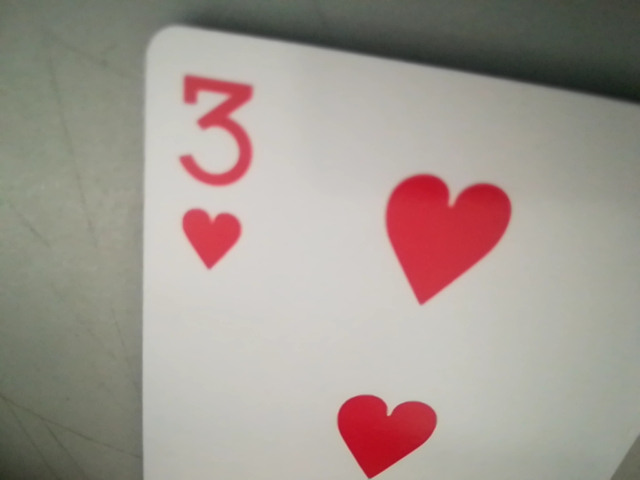hx 3: (169, 71, 266, 270)
